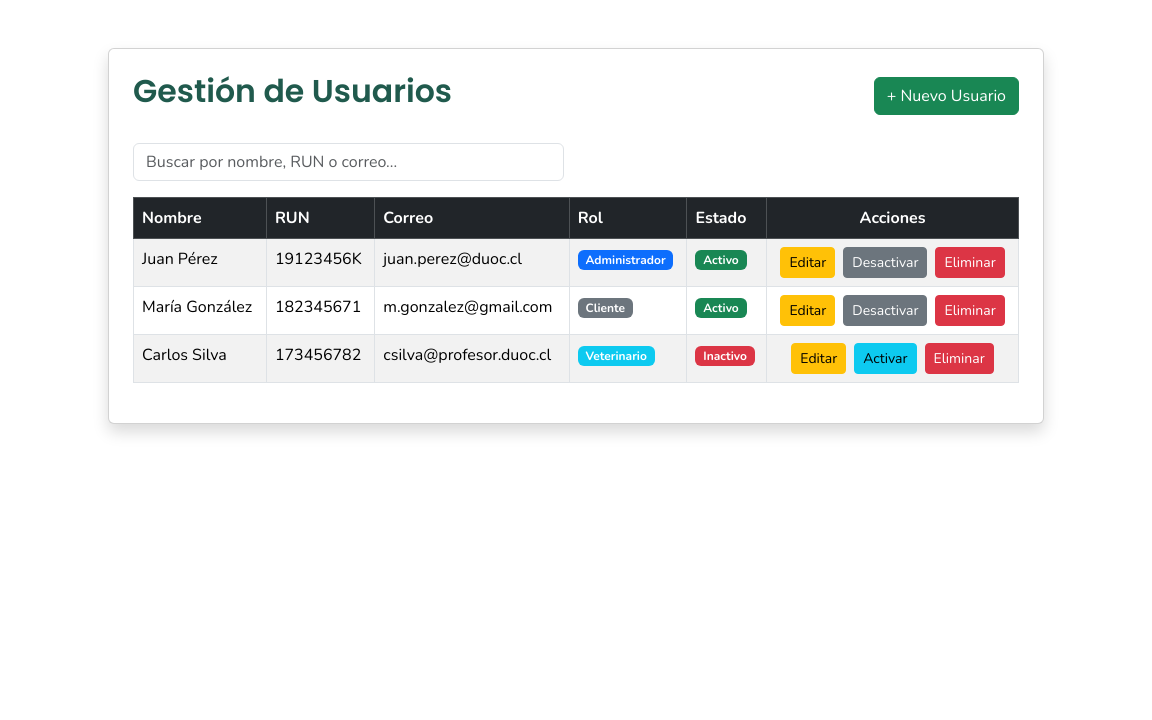
UsuariosAdmin Component › muestra un mensaje de error si se intenta enviar el formulario con campos requeridos vacíos
What coordinates should you click on to do the following:
click the button "+ Nuevo Usuario"
I would click on:
 (946, 96)
Its box is [874,77,1019,115].
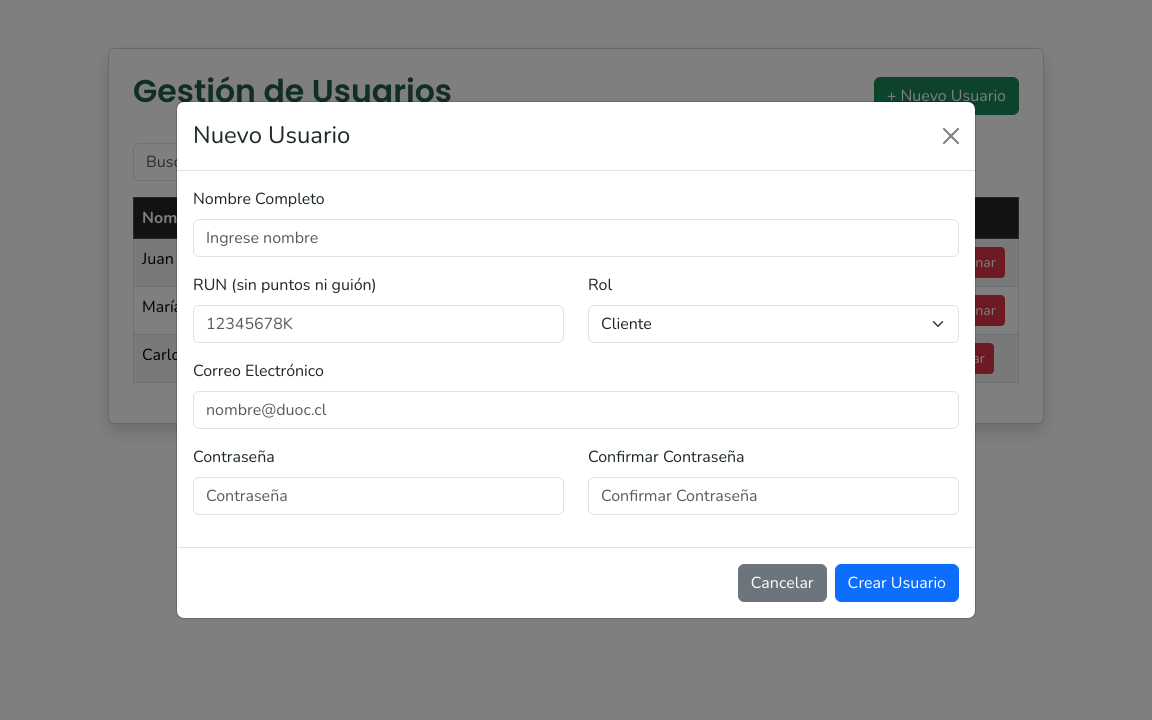
What coordinates should you click on to do the following:
click the button "Crear Usuario"
I would click on:
 (897, 583)
Its box is [835,564,959,602].
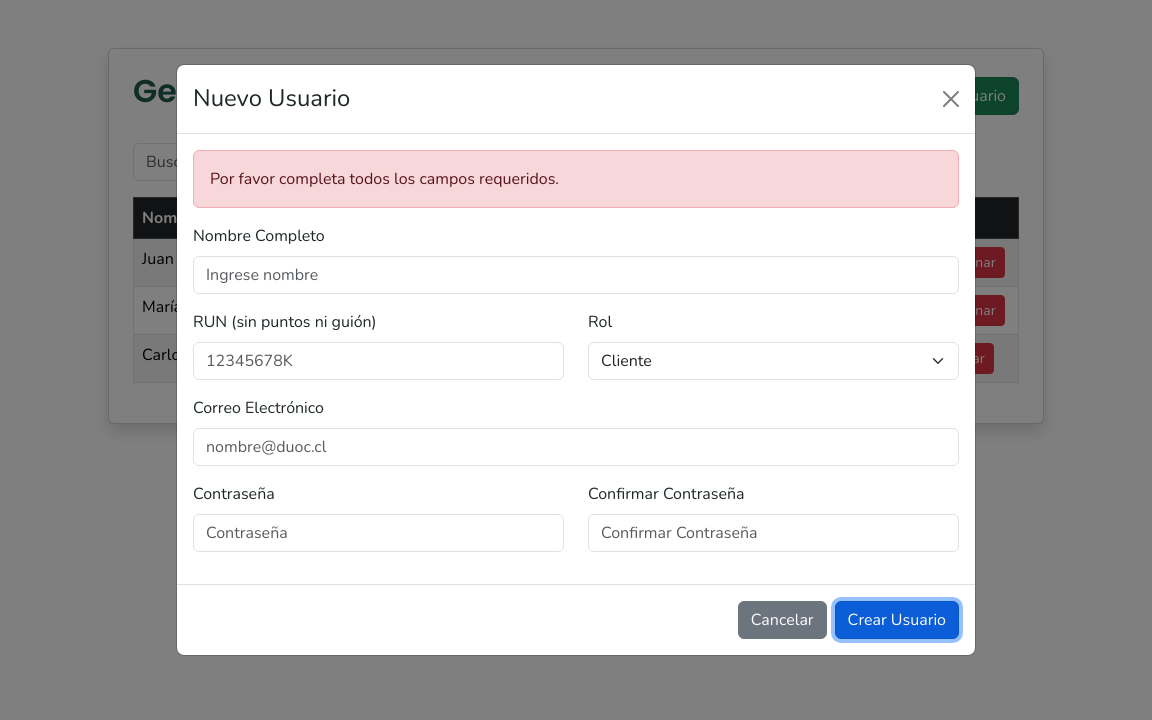
Result: the text "Por favor completa todos los campos requeridos." is shown at [193,150,959,208]
